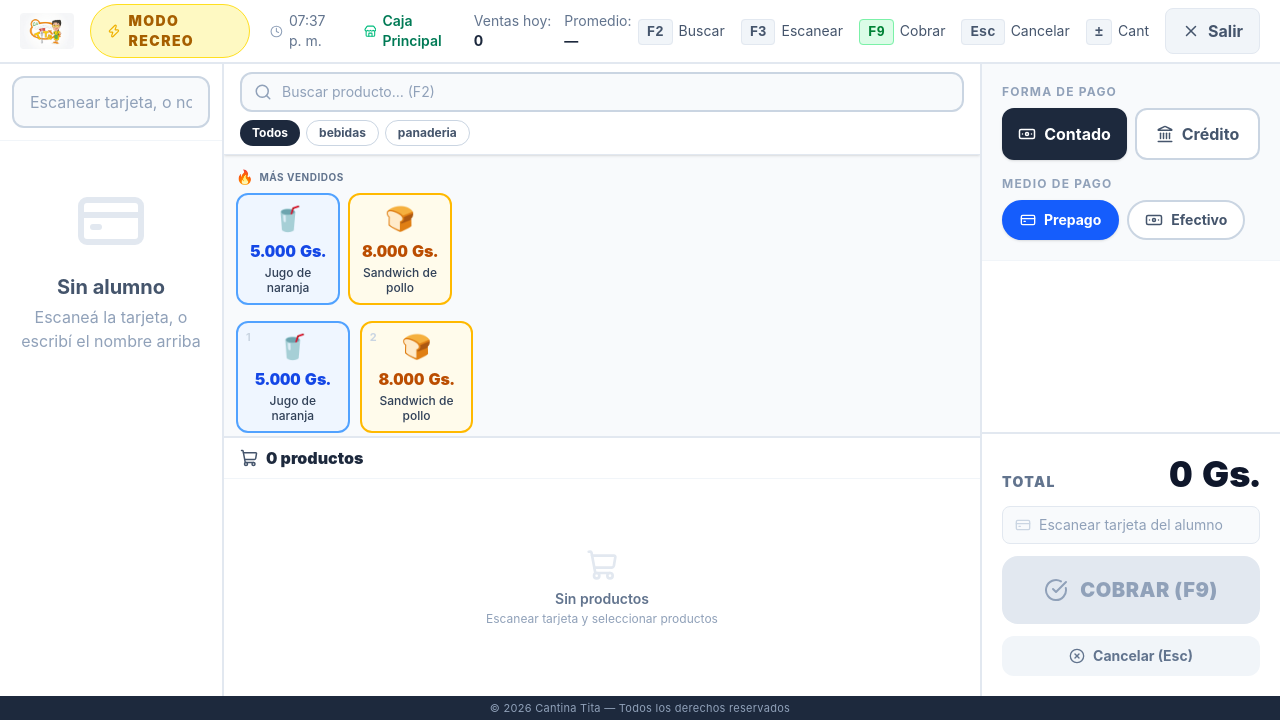
Scenario: ModoRecreo — agregar productos al carrito › incrementa la cantidad al agregar el mismo producto dos veces
expect the text "Jugo de naranja" below "Más vendidos" is shown: met, box [265,265,311,295]
Click the button "🥤 5.000 Gs. Jugo de naranja".
click(288, 249)  # box [236,193,340,305]
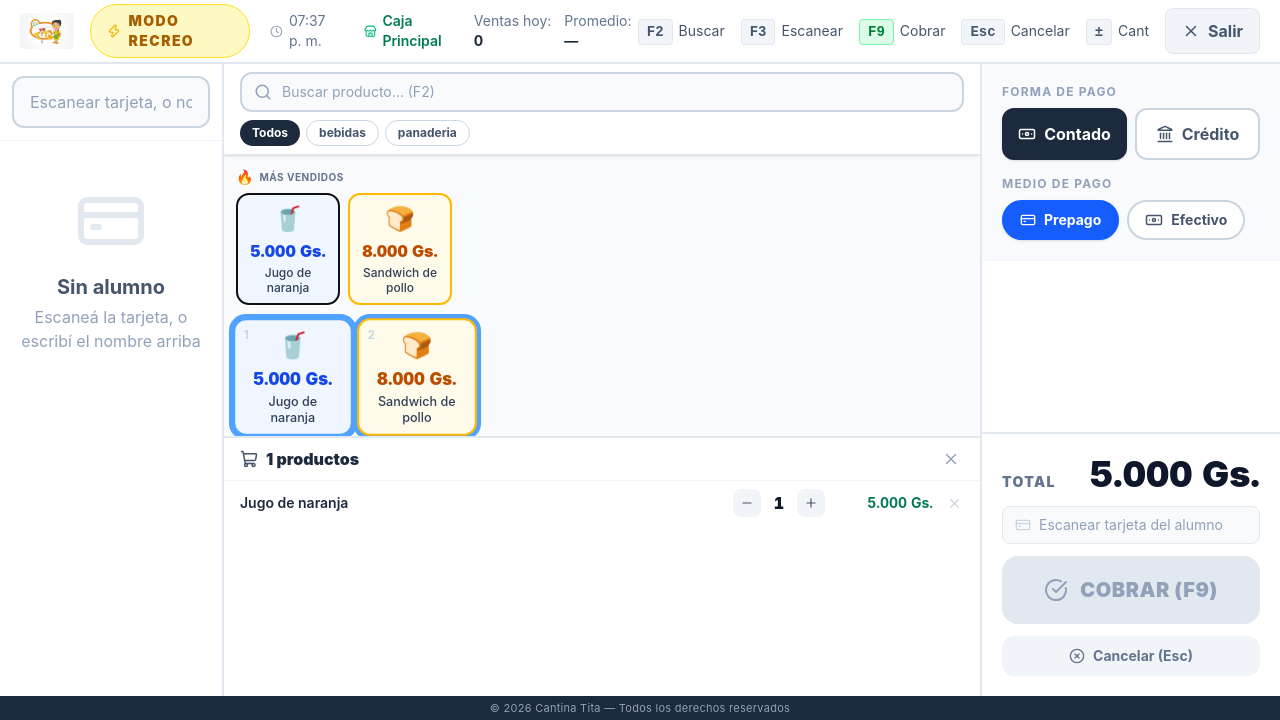
Click the button "🥤 5.000 Gs. Jugo de naranja".
click(288, 249)  # box [236,193,340,305]
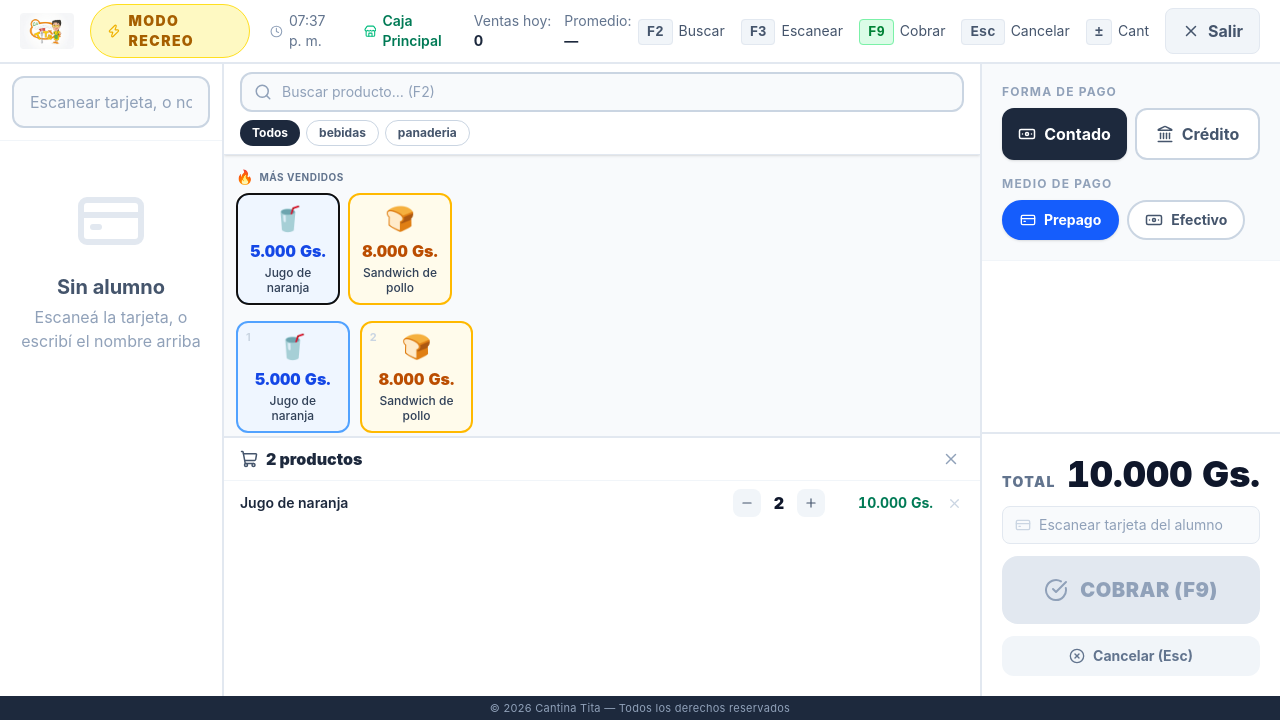
expect the text "2 productos" is shown: met, box [266,447,362,471]
